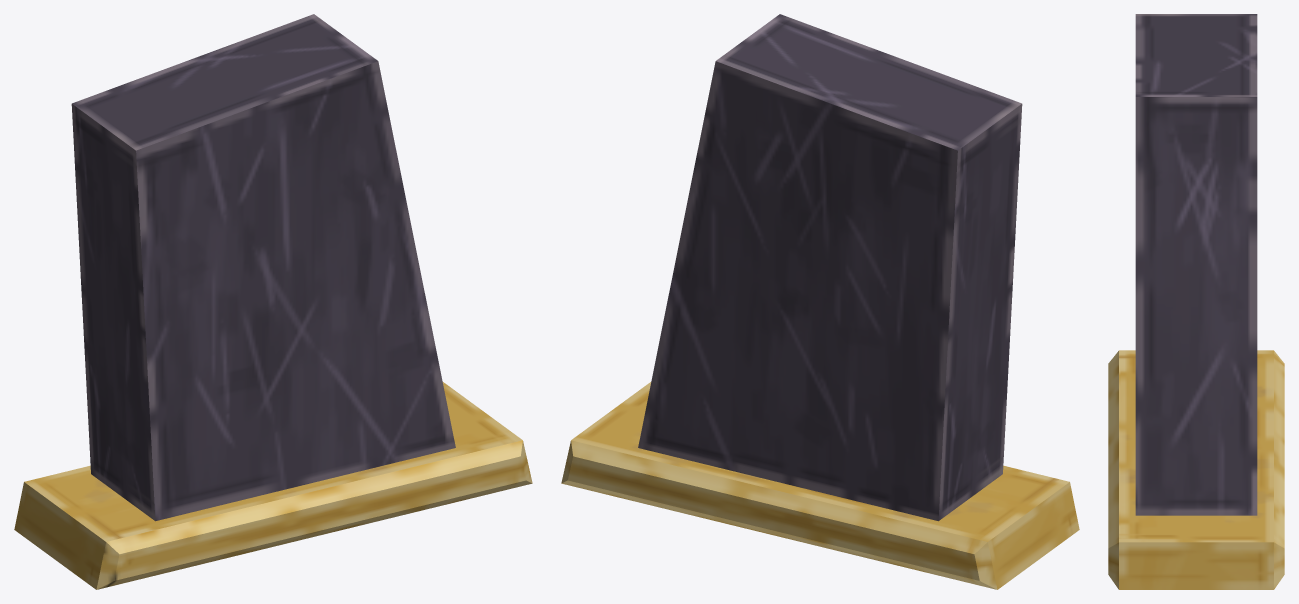
Rendered from pistol_magazine.fbx.
3 views of the same model, side by side, from view 1: azimuth 30°, elevation 25°; view 2: azimuth 150°, elevation 25°; view 3: azimuth 270°, elevation 25° (orthographic). The views are drawn at different scales.
Visible parts, largest first — view 1: pistol_magazine; view 2: pistol_magazine; view 3: pistol_magazine.
Boxes of the visible parts, x1,y1,x2,y2 form: pistol_magazine: (14,14,532,589); pistol_magazine: (561,14,1079,589); pistol_magazine: (1108,14,1284,589).
Bounding box in the file's own units: 0.3375 × 0.3338 × 0.1251.
